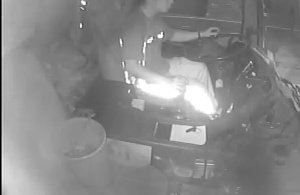paper: (169, 123, 209, 146)
